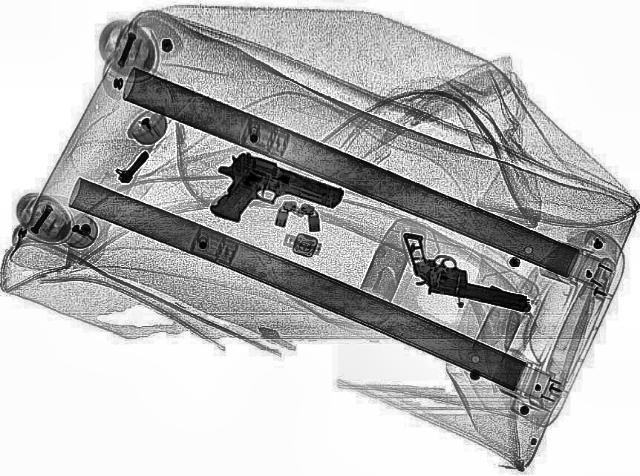Gun: (188, 146, 350, 247), (382, 232, 550, 312)
